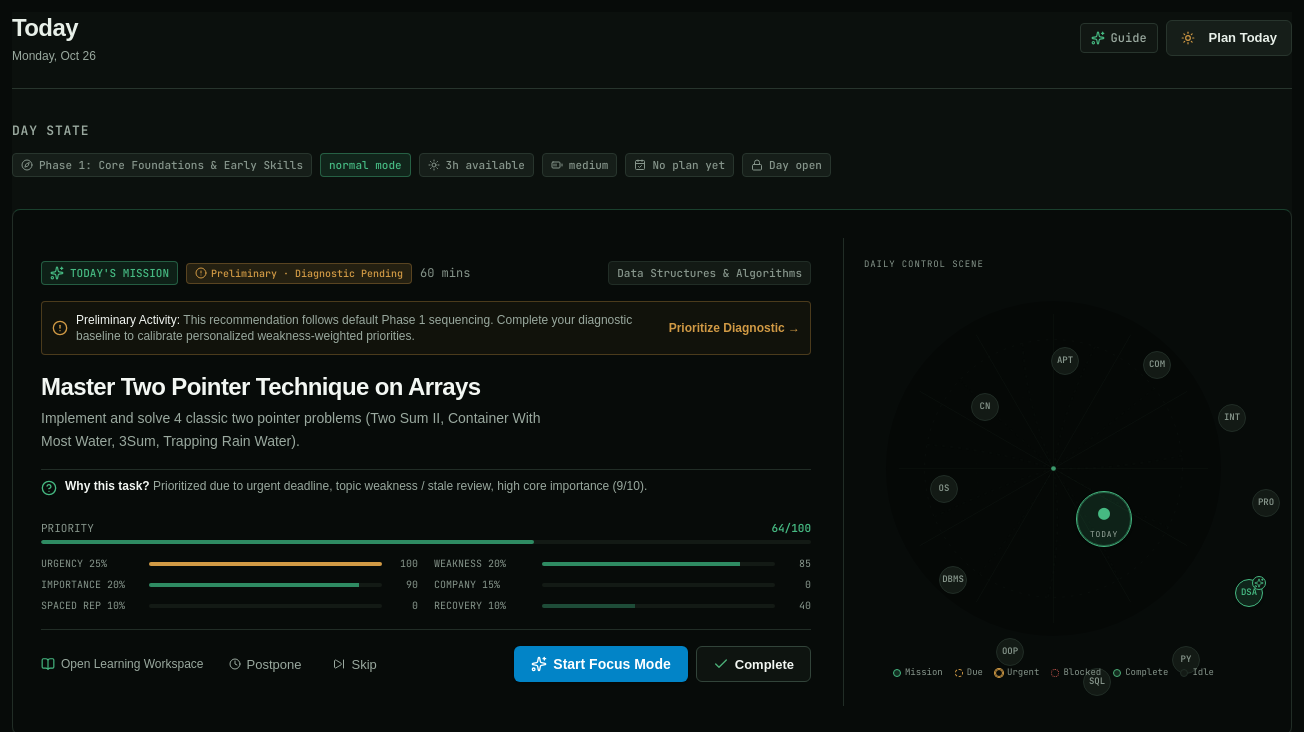
Test: C7-07 — completion animation › F3. "Open Next Step" really navigates — it is never a silent no-op
Click the button with test id "complete-primary" at (753, 664), box [696,646,811,682]
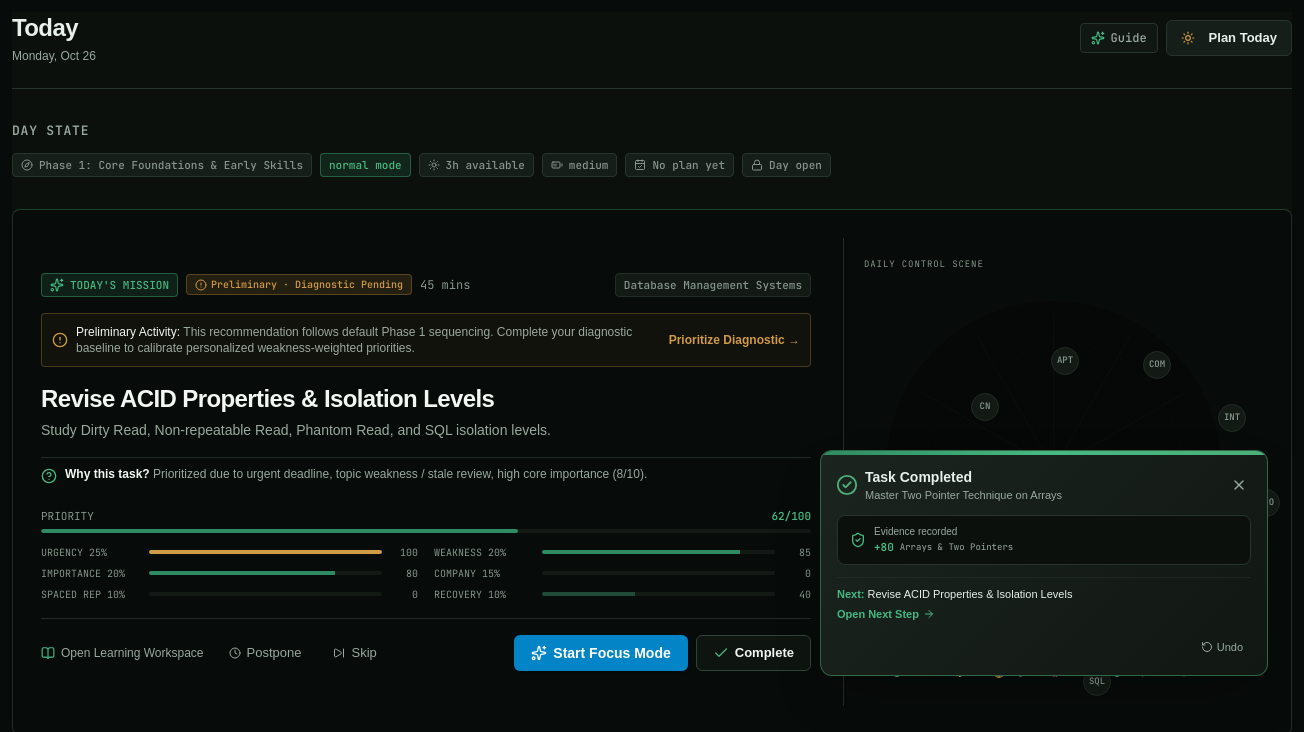
Expected: the button with test id "completion-open-next" reads "Open Next Step"
Click the button with test id "completion-open-next" at (886, 614), box [837,606,935,622]
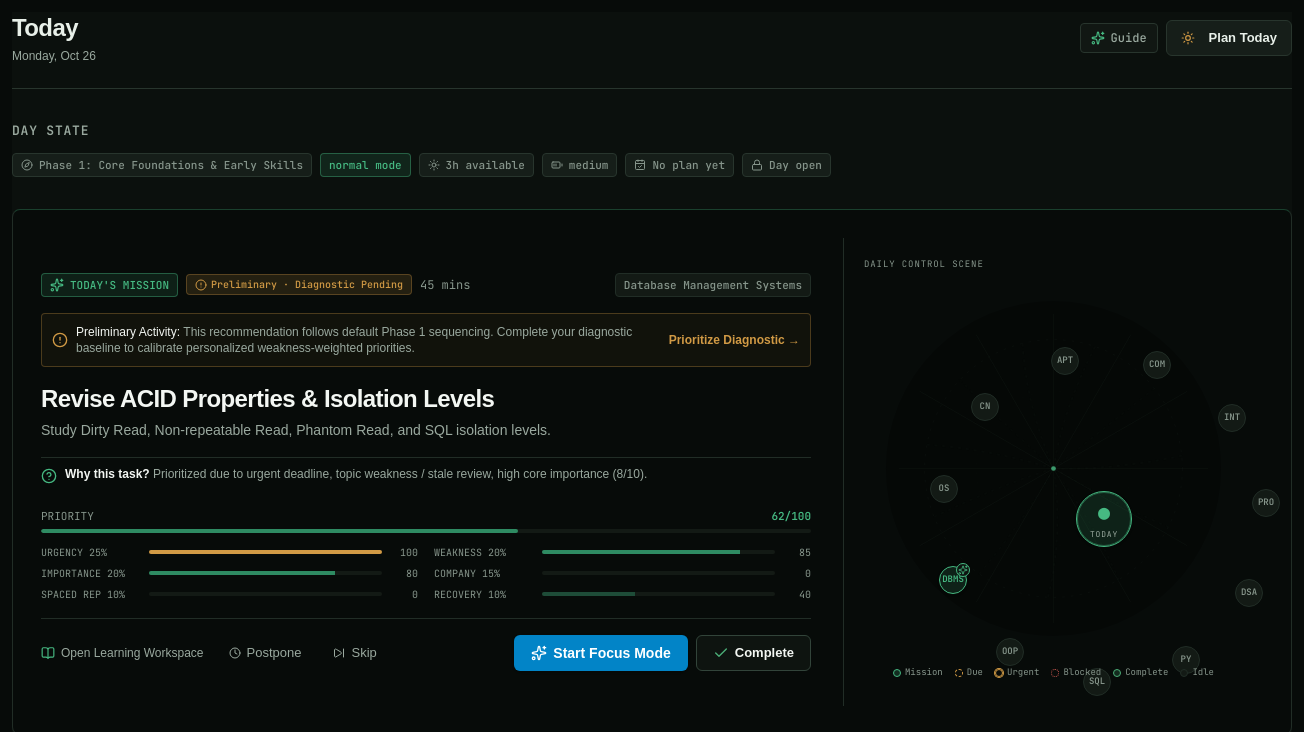
Expected: the message with test id "completion-animation" is gone
